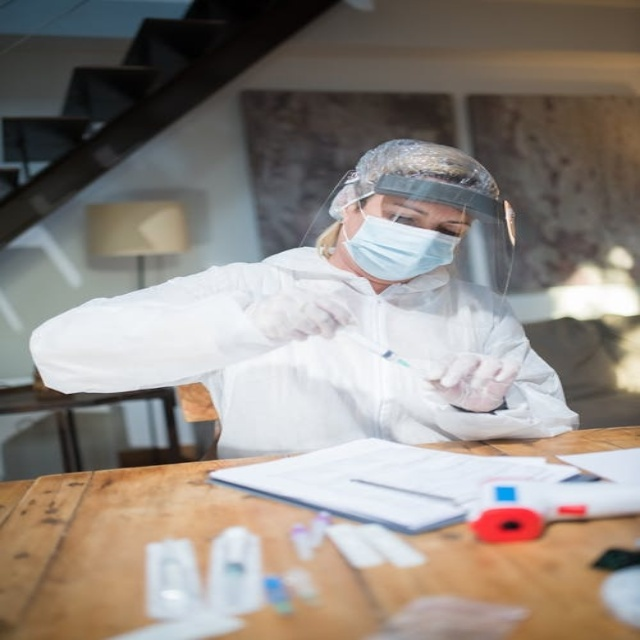Guantes: (247, 281, 362, 345), (420, 349, 521, 412)
Mascara: (340, 205, 462, 282)
Sin_gafas: (372, 200, 477, 239)
